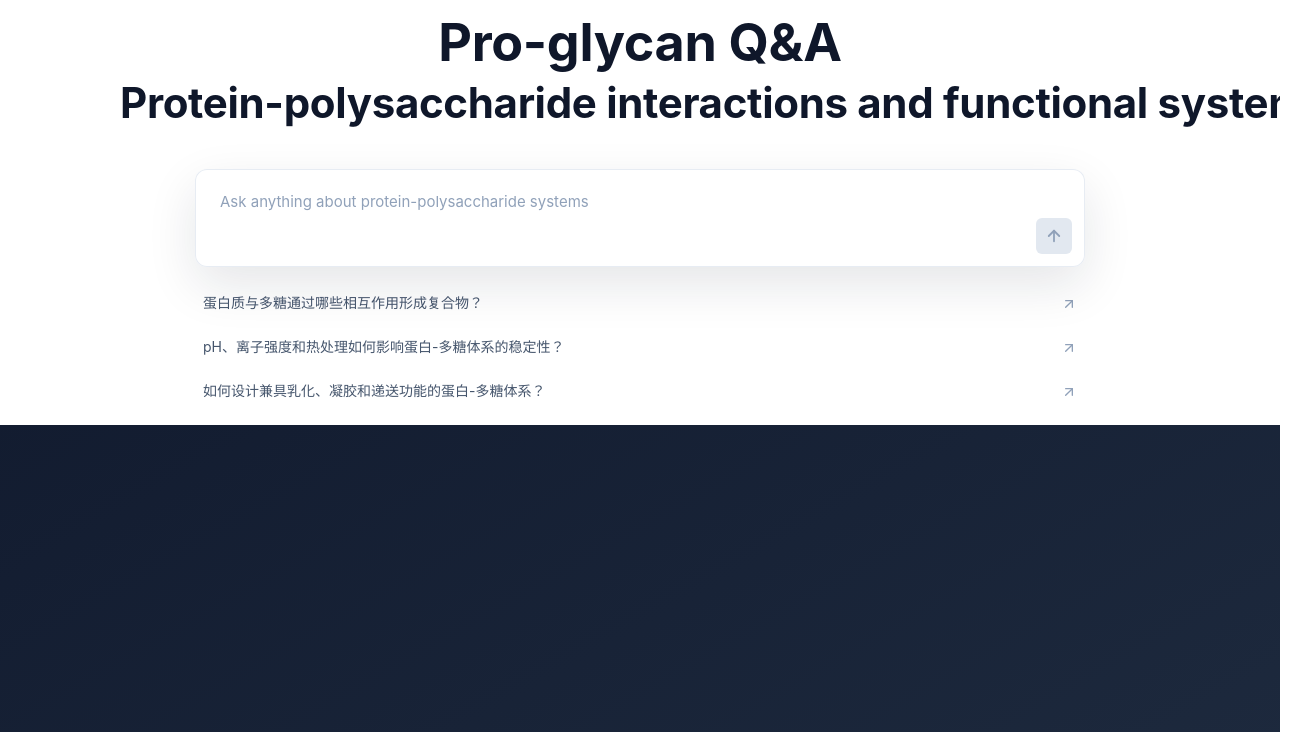
Test: Pro-glycan Q&A › uses the Pro-glycan copy and fills a suggestion without sending
Expected: the heading is shown, [120,12,1160,129]
Expected: the text box with placeholder "Ask anything about protein-polysaccharide systems" is shown, [196,170,1084,266]
Click the button "蛋白质与多糖通过哪些相互作用形成复合物？".
click(343, 302)  # box [195,283,1085,323]
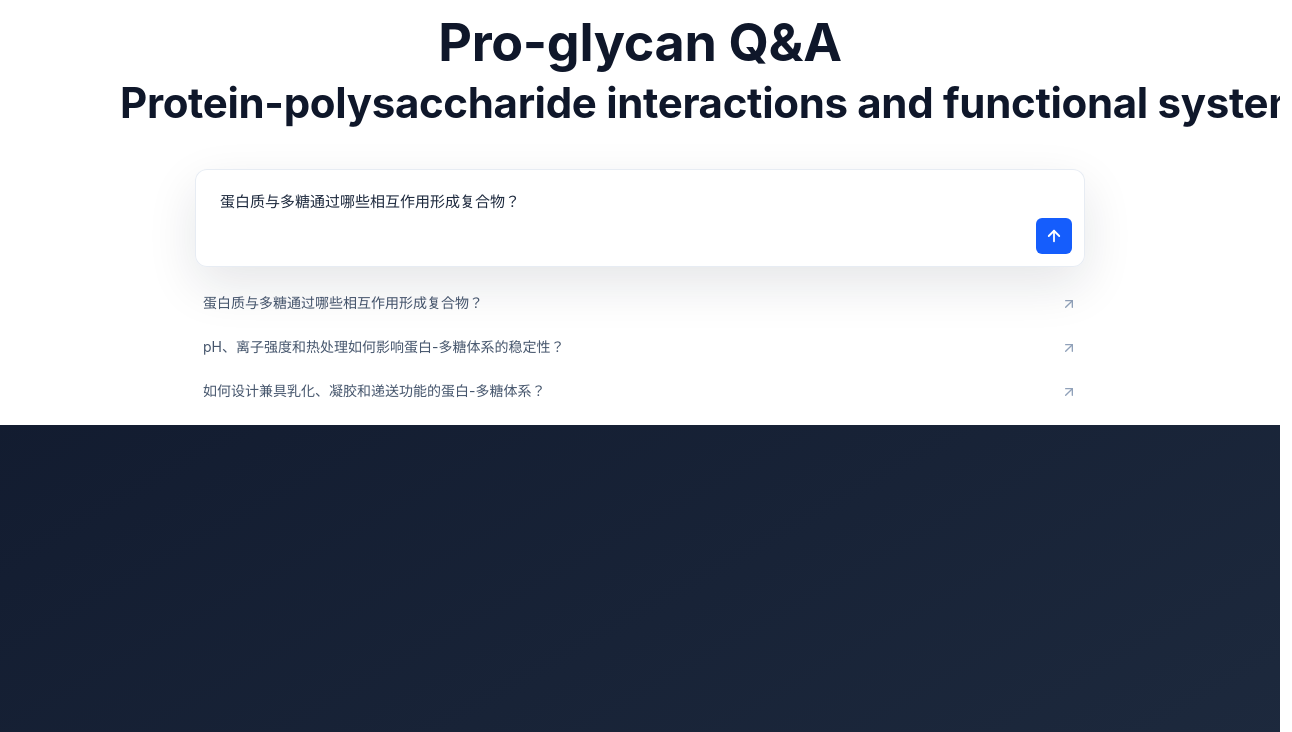
Now the text box named "Pro-glycan question" holds "蛋白质与多糖通过哪些相互作用形成复合物？", box [196,170,1084,266]
